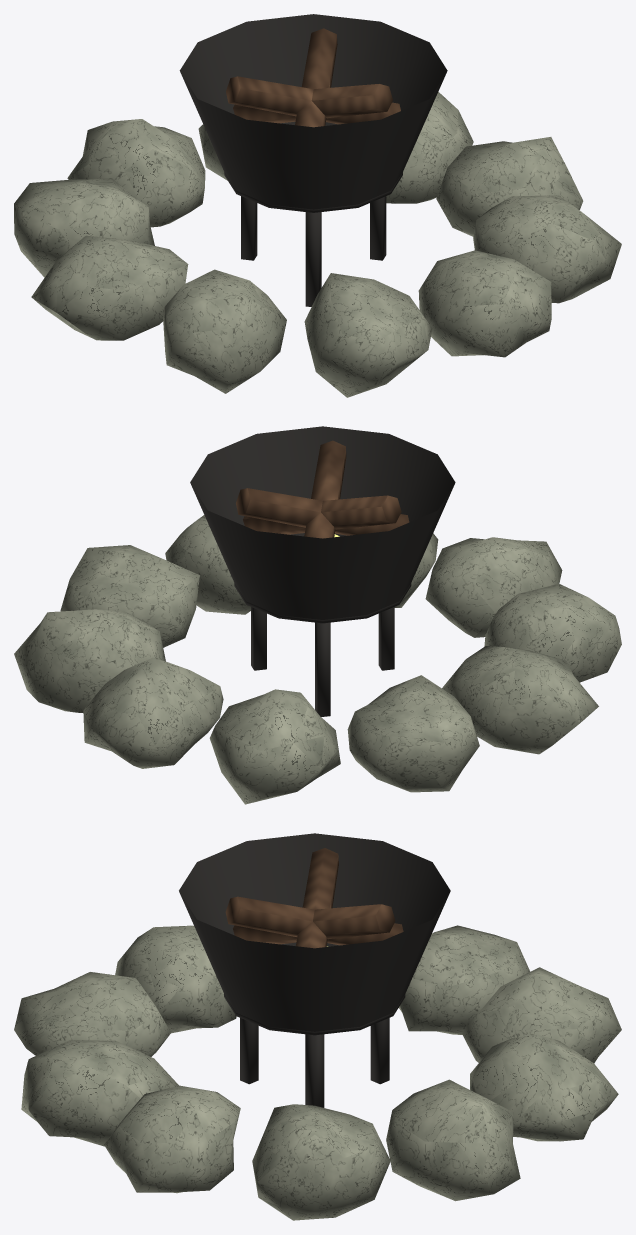
Rendered from Prop_FirePit.fbx.
The picture shows the model from 3 angles, top to bottom: view 1: azimuth 30°, elevation 25°; view 2: azimuth 150°, elevation 25°; view 3: azimuth 270°, elevation 25°; orthographic projection. The views are drawn at different scales.
Visible parts, largest first — view 1: Prop_FirePit.001; view 2: Prop_FirePit.001; view 3: Prop_FirePit.001.
Part boxes in pixels (box(x1,y1,x2,y2)): Prop_FirePit.001: box(14, 14, 621, 397); Prop_FirePit.001: box(14, 426, 621, 804); Prop_FirePit.001: box(14, 833, 621, 1220).
Size of the model in its own units: 1.62 by 0.6766 by 1.61.
